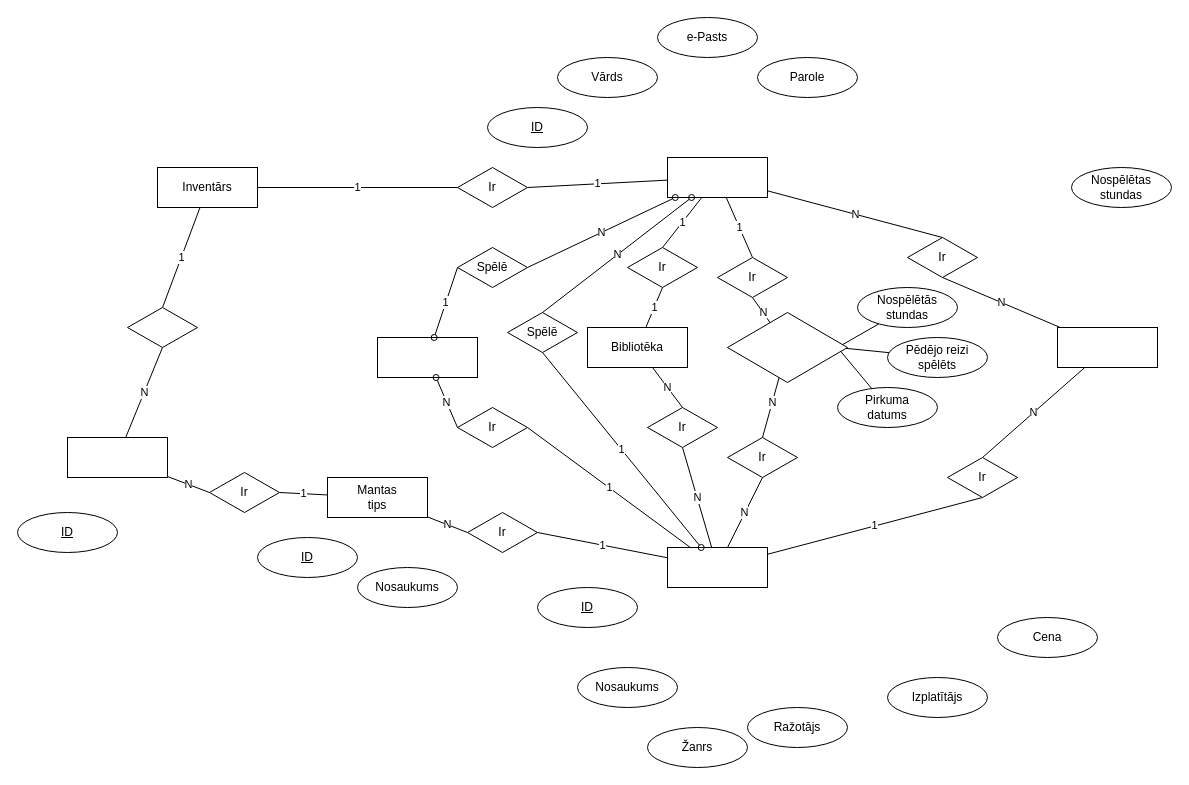
This 1189x785 diagram has some shape labels left out. The box of each missing label's shape, as (x1, y1, x2, y2) in pixels:
Lietotājs: (666, 156, 768, 198)
Manta: (66, 436, 168, 478)
Pieder: (126, 306, 198, 348)
Sasniegumi: (1056, 326, 1158, 368)
Serveris: (376, 336, 478, 378)
Spēle: (666, 546, 768, 588)
Spēlētāja informācija: (726, 312, 848, 382)
